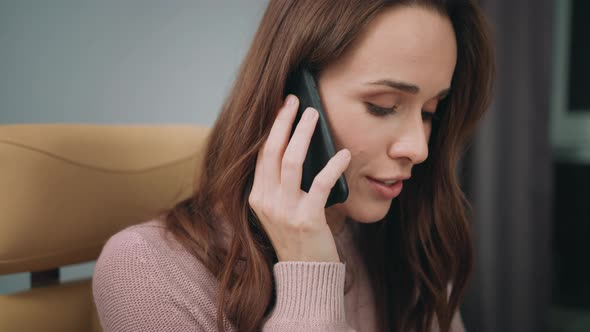phone: (259, 79, 356, 212)
talk: (248, 67, 451, 258)
